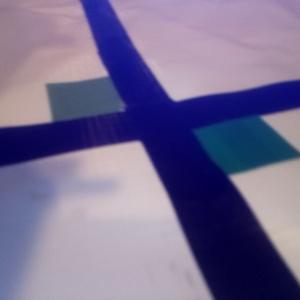bottom_right: (160, 115, 300, 175)
top_left: (47, 77, 157, 142)
